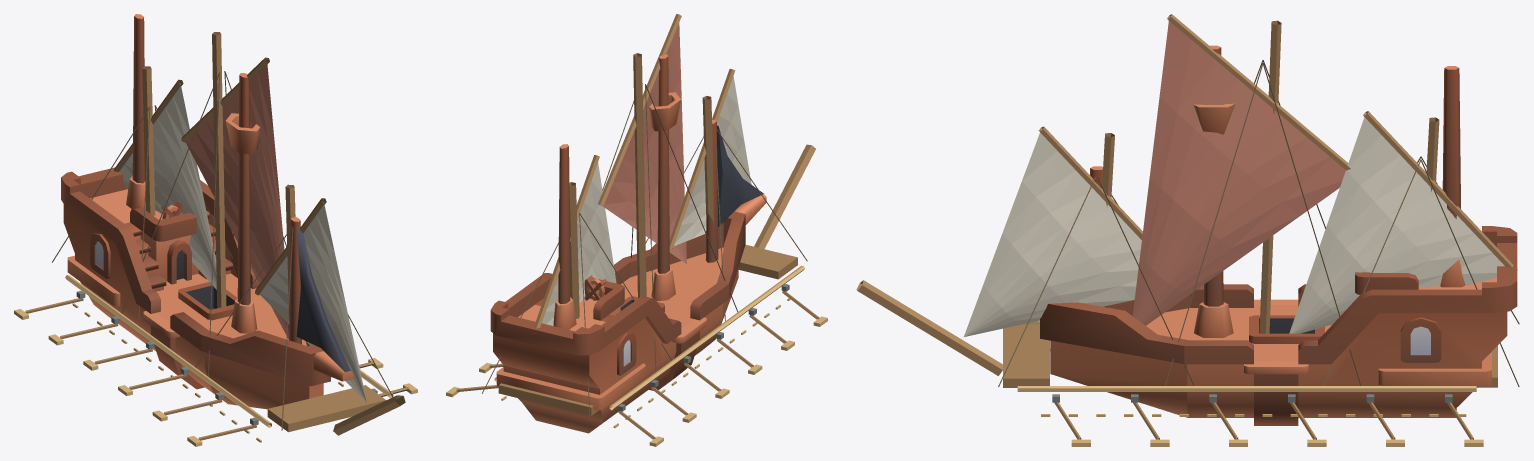
The model's file is xebec-custom.glb.
3 views of the same model, side by side, from view 1: azimuth 30°, elevation 25°; view 2: azimuth 150°, elevation 25°; view 3: azimuth 270°, elevation 25° (orthographic). The views are drawn at different scales.
Visible parts, largest first — view 1: ship-pirate-medium, xebec wood, xebec cloth, xebec stripe, xebec trim, xebec rope, xebec metal; view 2: ship-pirate-medium, xebec wood, xebec cloth, xebec stripe, xebec trim, xebec rope; view 3: ship-pirate-medium, xebec cloth, xebec stripe, xebec wood, xebec trim, xebec rope.
Part boxes in pixels (x1,y1,x2,y2): ship-pirate-medium: (61,14,353,409); xebec wood: (25,32,408,440); xebec cloth: (119,82,366,402); xebec stripe: (185,61,289,339); xebec trim: (14,275,417,446); xebec rope: (52,71,393,430); xebec metal: (76,290,377,425); ship-pirate-medium: (490,54,766,433); xebec wood: (456,14,819,439); xebec cloth: (542,76,751,325); xebec stripe: (601,23,686,263); xebec trim: (446,265,827,446); xebec rope: (482,84,807,419); ship-pirate-medium: (1040,45,1517,425); xebec cloth: (964,114,1504,336); xebec stripe: (1132,17,1345,325); xebec wood: (856,14,1517,439); xebec trim: (1017,320,1483,446); xebec rope: (998,60,1519,386).
Bounding box in the file's own units: 6.8 × 10.26 × 15.54.
Materials: 7 (1 with a texture image).
